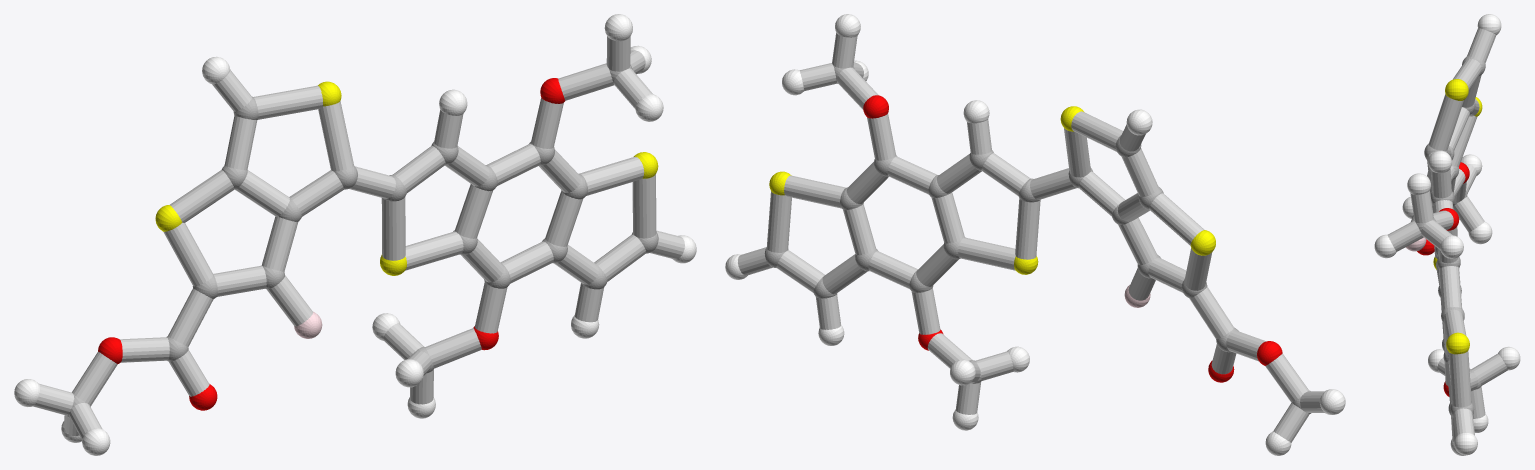
Rendered from color.glb.
The picture shows the model from 3 angles, left to right: view 1: azimuth 30°, elevation 25°; view 2: azimuth 150°, elevation 25°; view 3: azimuth 270°, elevation 25°; orthographic projection. The views are drawn at different scales.
Visible parts, largest first — view 1: grp15205, grp8689, grp1, grp13395, grp7241; view 2: grp15205, grp8689, grp1, grp7241, grp13395; view 3: grp15205, grp8689, grp1, grp7241, grp13395, grp14843.
Part boxes in pixels (x1,y1,x2,y2): grp15205: [33, 36, 684, 439]; grp8689: [14, 14, 696, 455]; grp1: [66, 64, 658, 418]; grp13395: [98, 78, 565, 410]; grp7241: [155, 81, 658, 275]; grp15205: [737, 33, 1325, 442]; grp8689: [725, 14, 1345, 455]; grp1: [764, 66, 1311, 413]; grp7241: [769, 106, 1215, 274]; grp13395: [863, 95, 1282, 382]; grp15205: [1387, 28, 1507, 441]; grp8689: [1374, 14, 1520, 455]; grp1: [1416, 56, 1485, 417]; grp7241: [1433, 79, 1482, 354]; grp13395: [1417, 162, 1469, 396]; grp14843: [1405, 237, 1426, 251].
Size of the model in its own units: 16.5 by 9.37 by 3.69.
